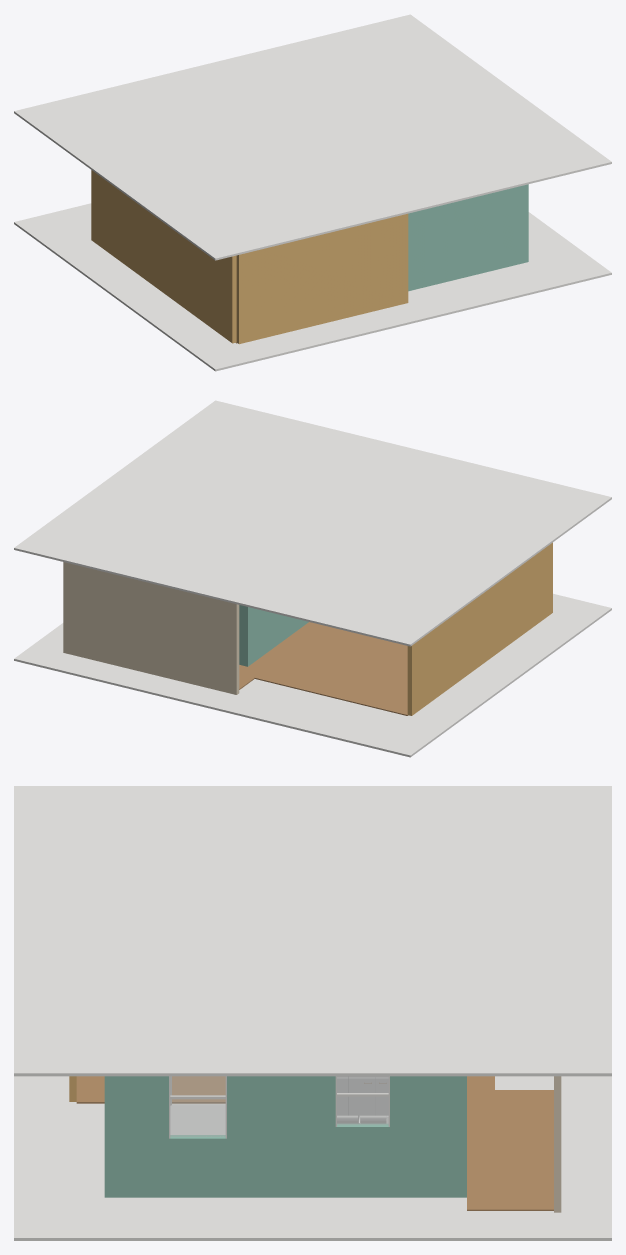
The picture shows the model from 3 angles, top to bottom: view 1: azimuth 30°, elevation 25°; view 2: azimuth 150°, elevation 25°; view 3: azimuth 270°, elevation 25°; orthographic projection. The views are drawn at different scales.
Parts seen in each view (by area): view 1: baked; view 2: baked; view 3: baked, window_glass_1, window_glass_0.
Part boxes in pixels (x1=…): baked: x1=14, y1=14, x2=611, y2=371; baked: x1=14, y1=400, x2=611, y2=757; baked: x1=14, y1=786, x2=611, y2=1240; window_glass_1: x1=170, y1=1076, x2=225, y2=1136; window_glass_0: x1=337, y1=1076, x2=388, y2=1124.
Size of what is drawn, in the model's own units: 9.53 by 2.59 by 8.38.
